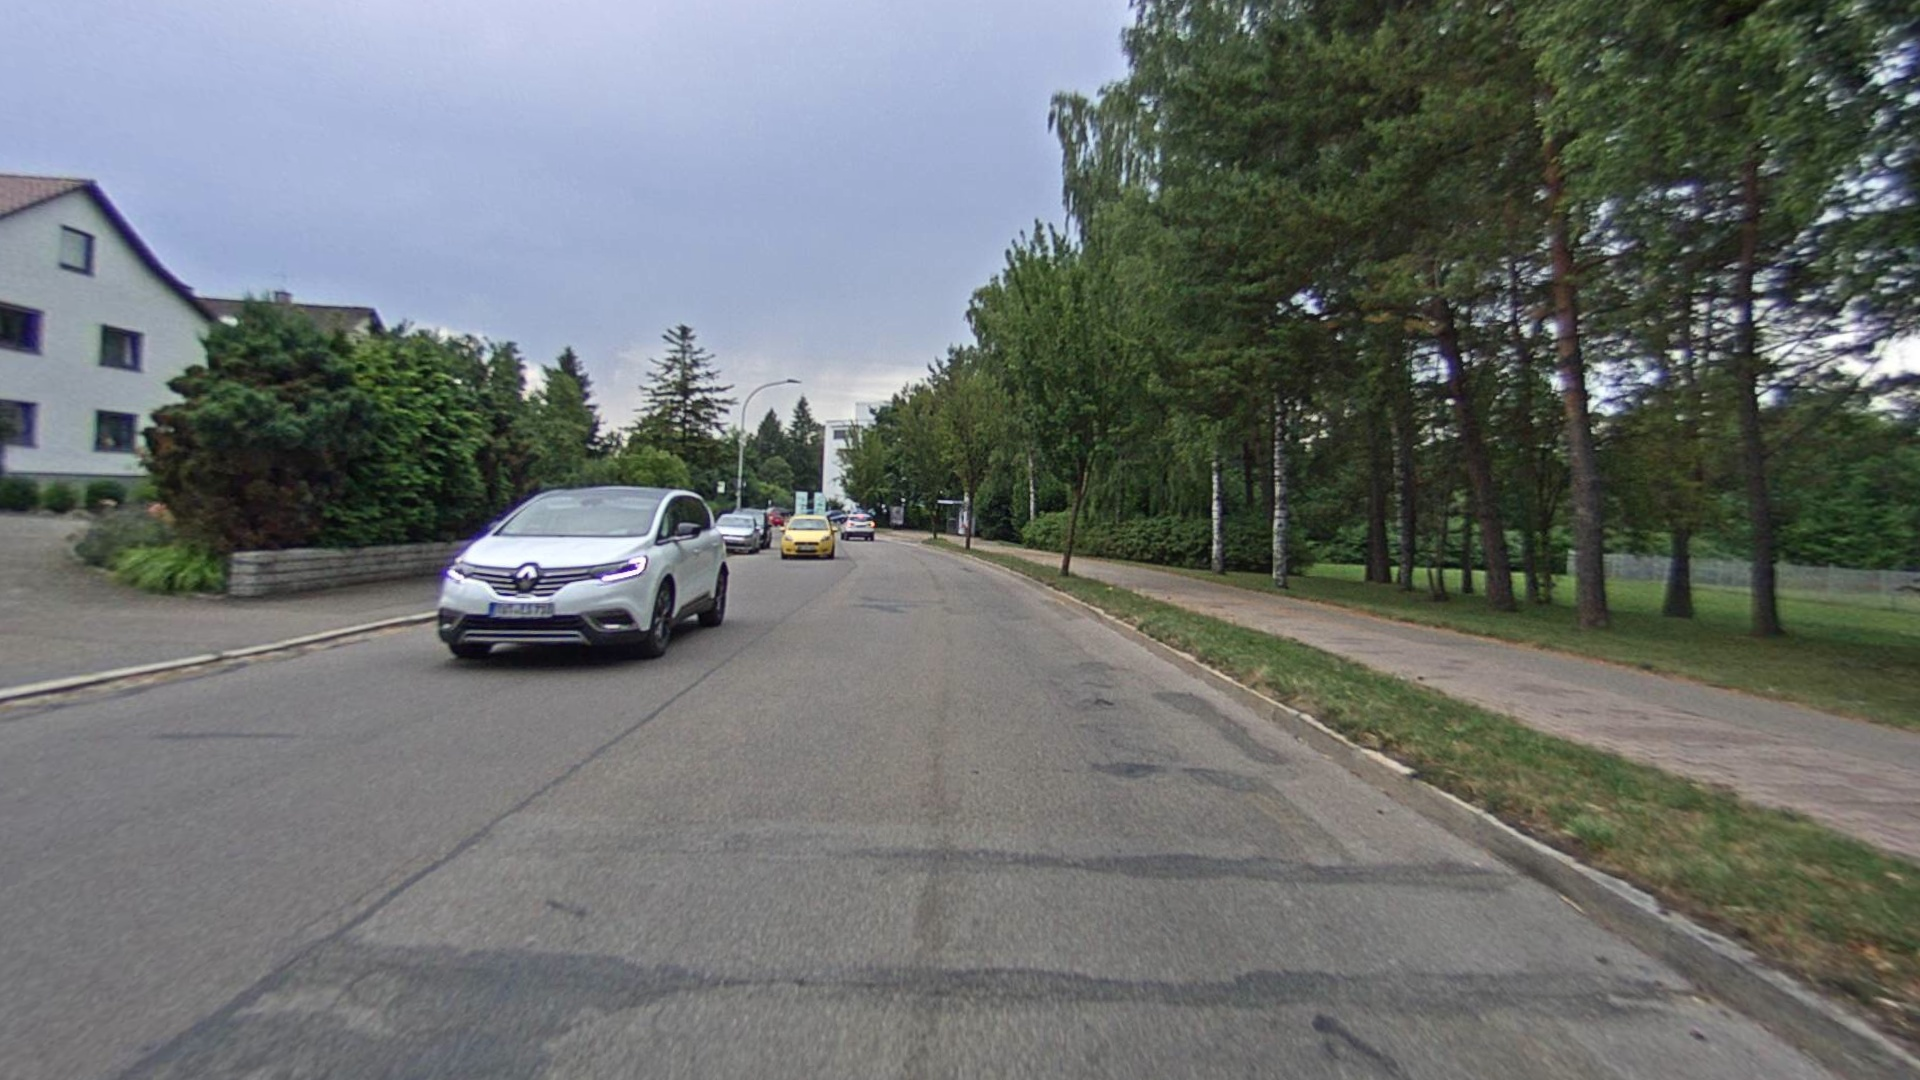car: (436, 484, 731, 676)
